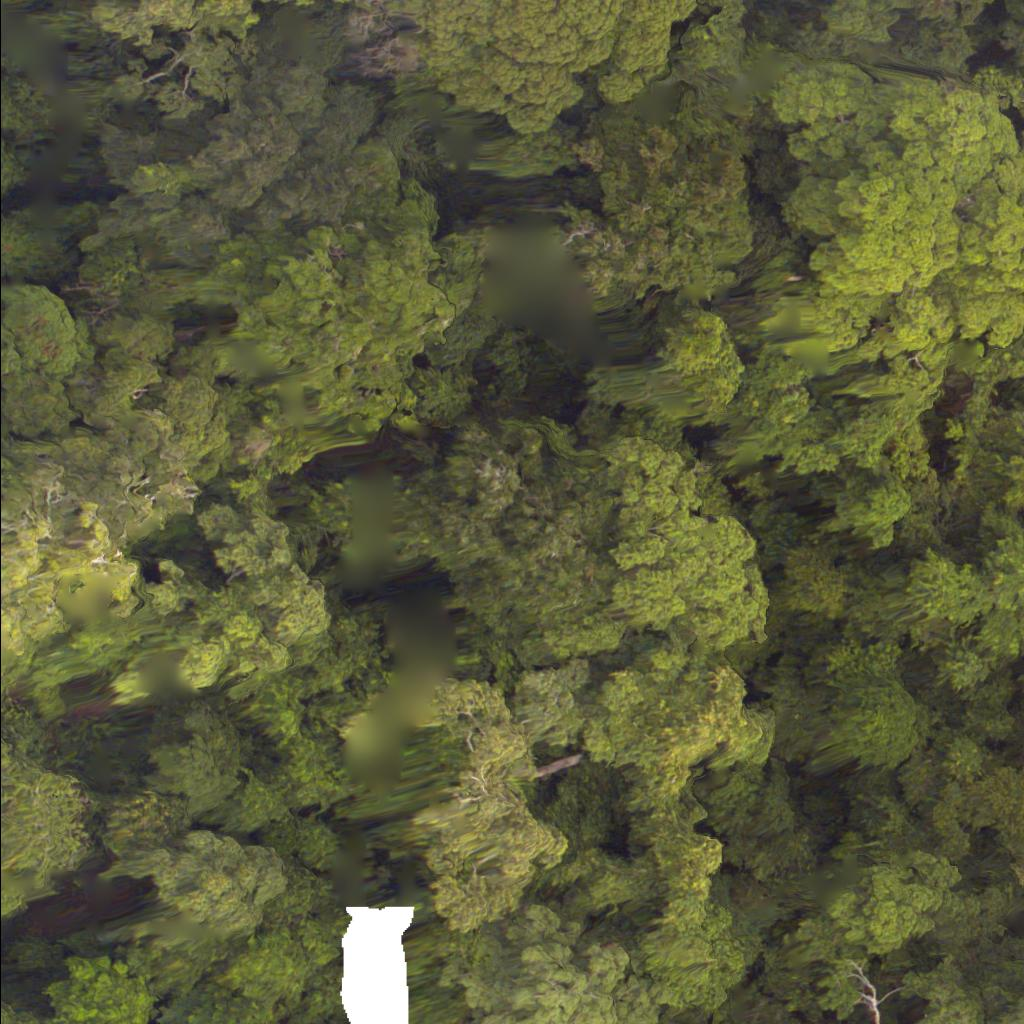crown: (277, 402, 606, 728), (737, 79, 1023, 381), (382, 0, 696, 137), (145, 827, 290, 942), (0, 726, 84, 920), (47, 954, 150, 1023), (988, 997, 1023, 1023), (0, 993, 30, 1023)
